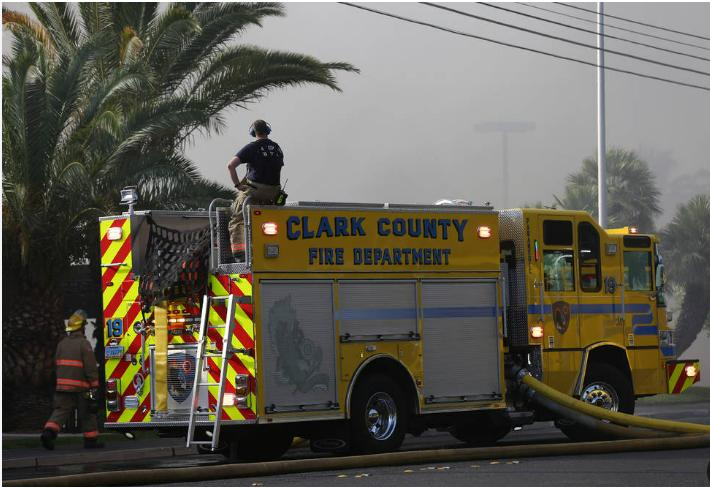firetruck_on: (97, 199, 701, 452)
